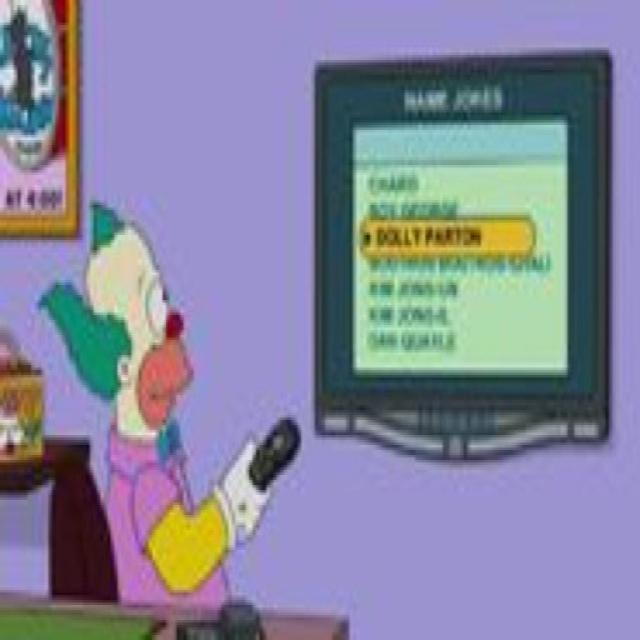Krusty the Clown: (33, 204, 195, 451)
